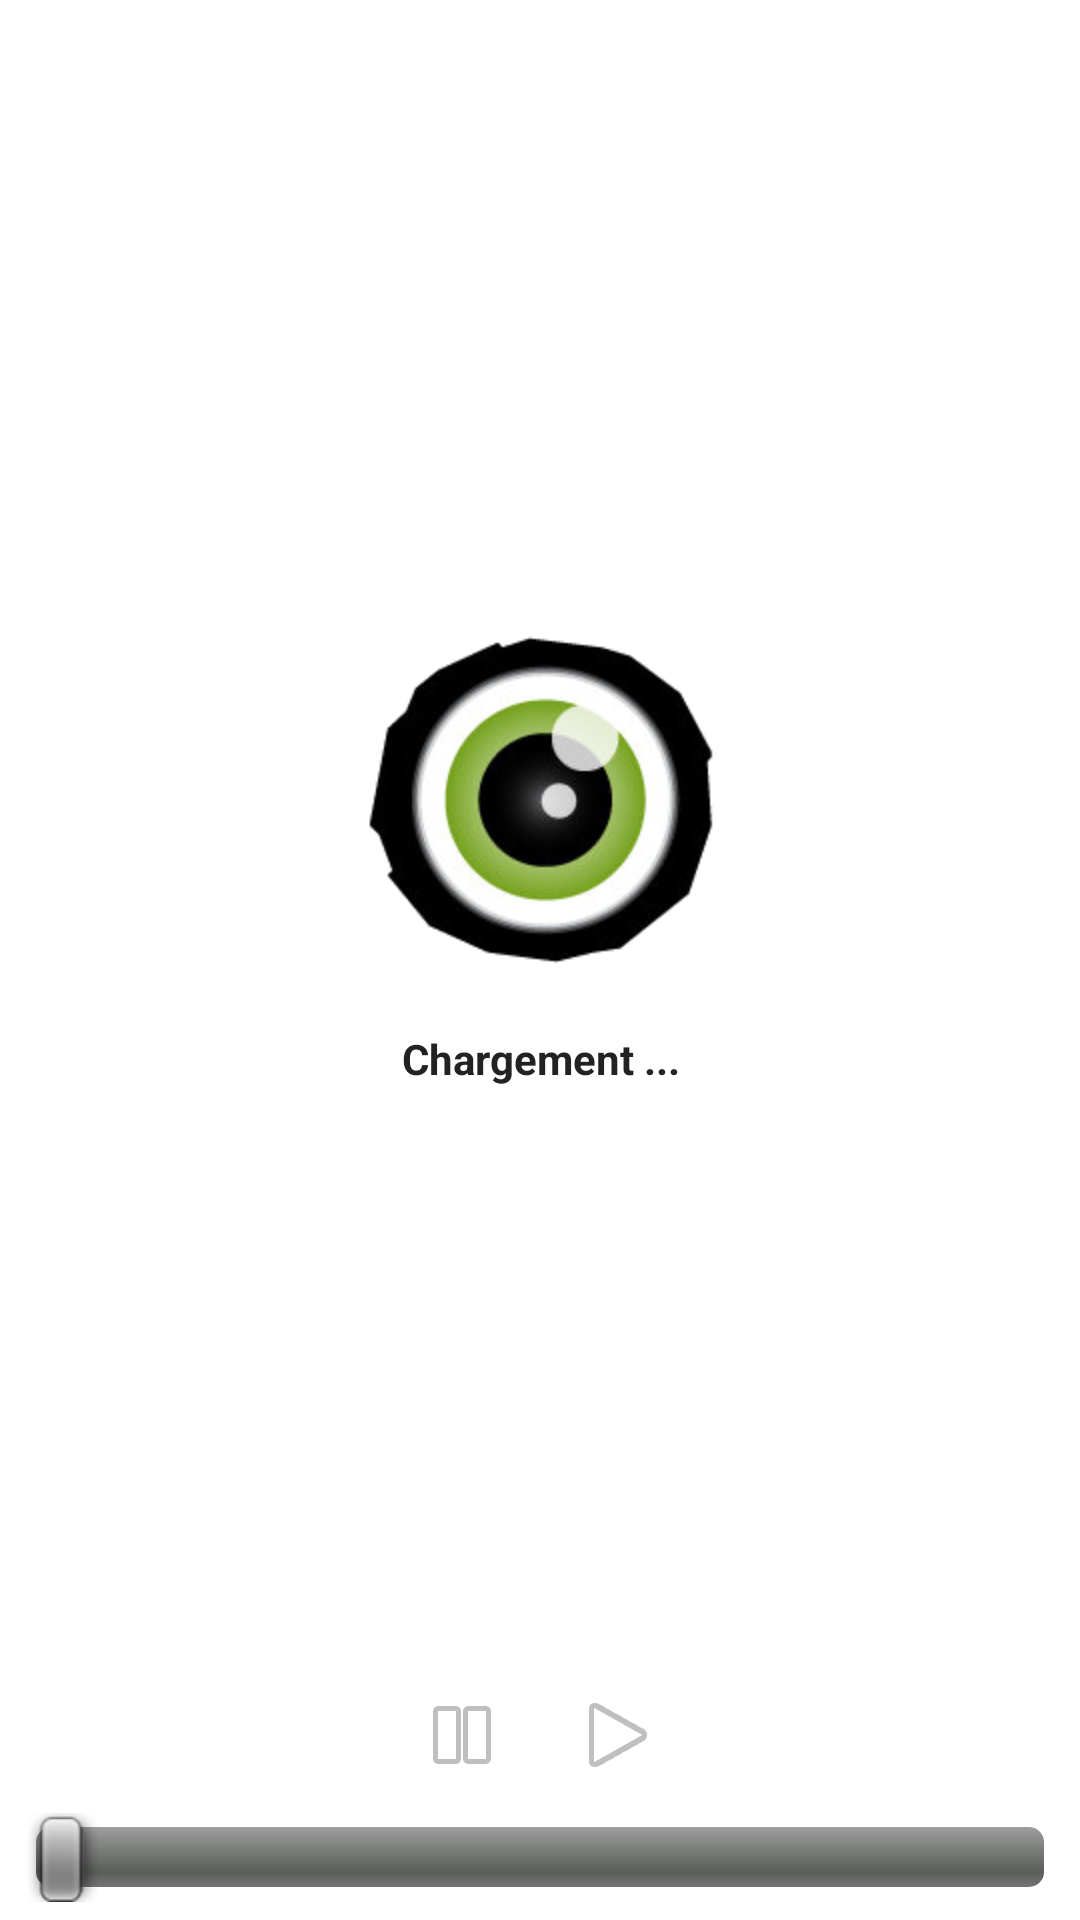

Where to tap for icons on this 1080px x 1920px app screen, as (x=x, y=y):
oeil: (x=541, y=800)
pause: (x=462, y=1735)
play: (x=618, y=1735)
